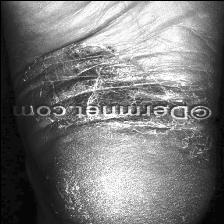Non-Cancerous Skin Condition: (31, 44, 171, 106)
